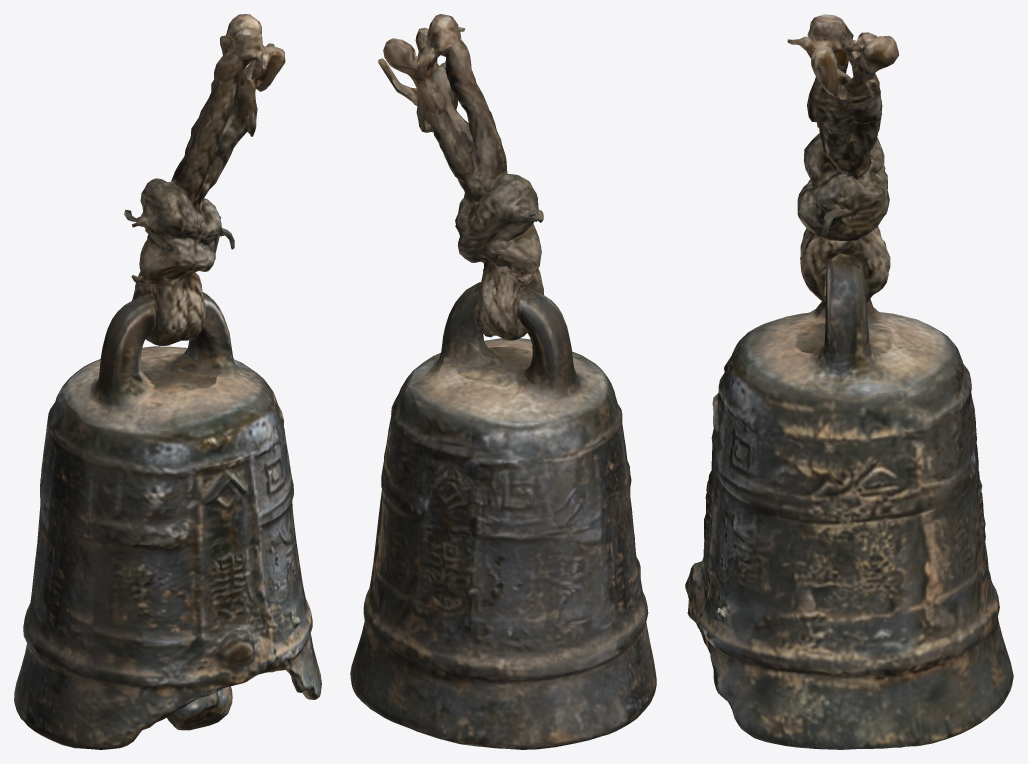
Rendered from bell.glb.
3 renders of one model, left to right at view 1: azimuth 30°, elevation 25°; view 2: azimuth 150°, elevation 25°; view 3: azimuth 270°, elevation 25°, orthographic. The views are drawn at different scales.
Parts seen in each view (by area): view 1: geometry_0; view 2: geometry_0; view 3: geometry_0.
Boxes of the visible parts, left/top/right/bottom form: geometry_0: left=14, top=14, right=321, bottom=749; geometry_0: left=350, top=14, right=656, bottom=749; geometry_0: left=685, top=14, right=1013, bottom=749.
Size of the model in its own units: 0.0277 by 0.065 by 0.0272.
Materials: 1 (1 with a texture image).
